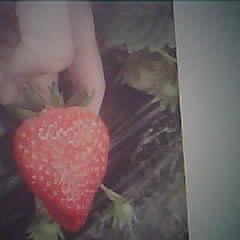straw-ripe: (13, 106, 110, 230)
